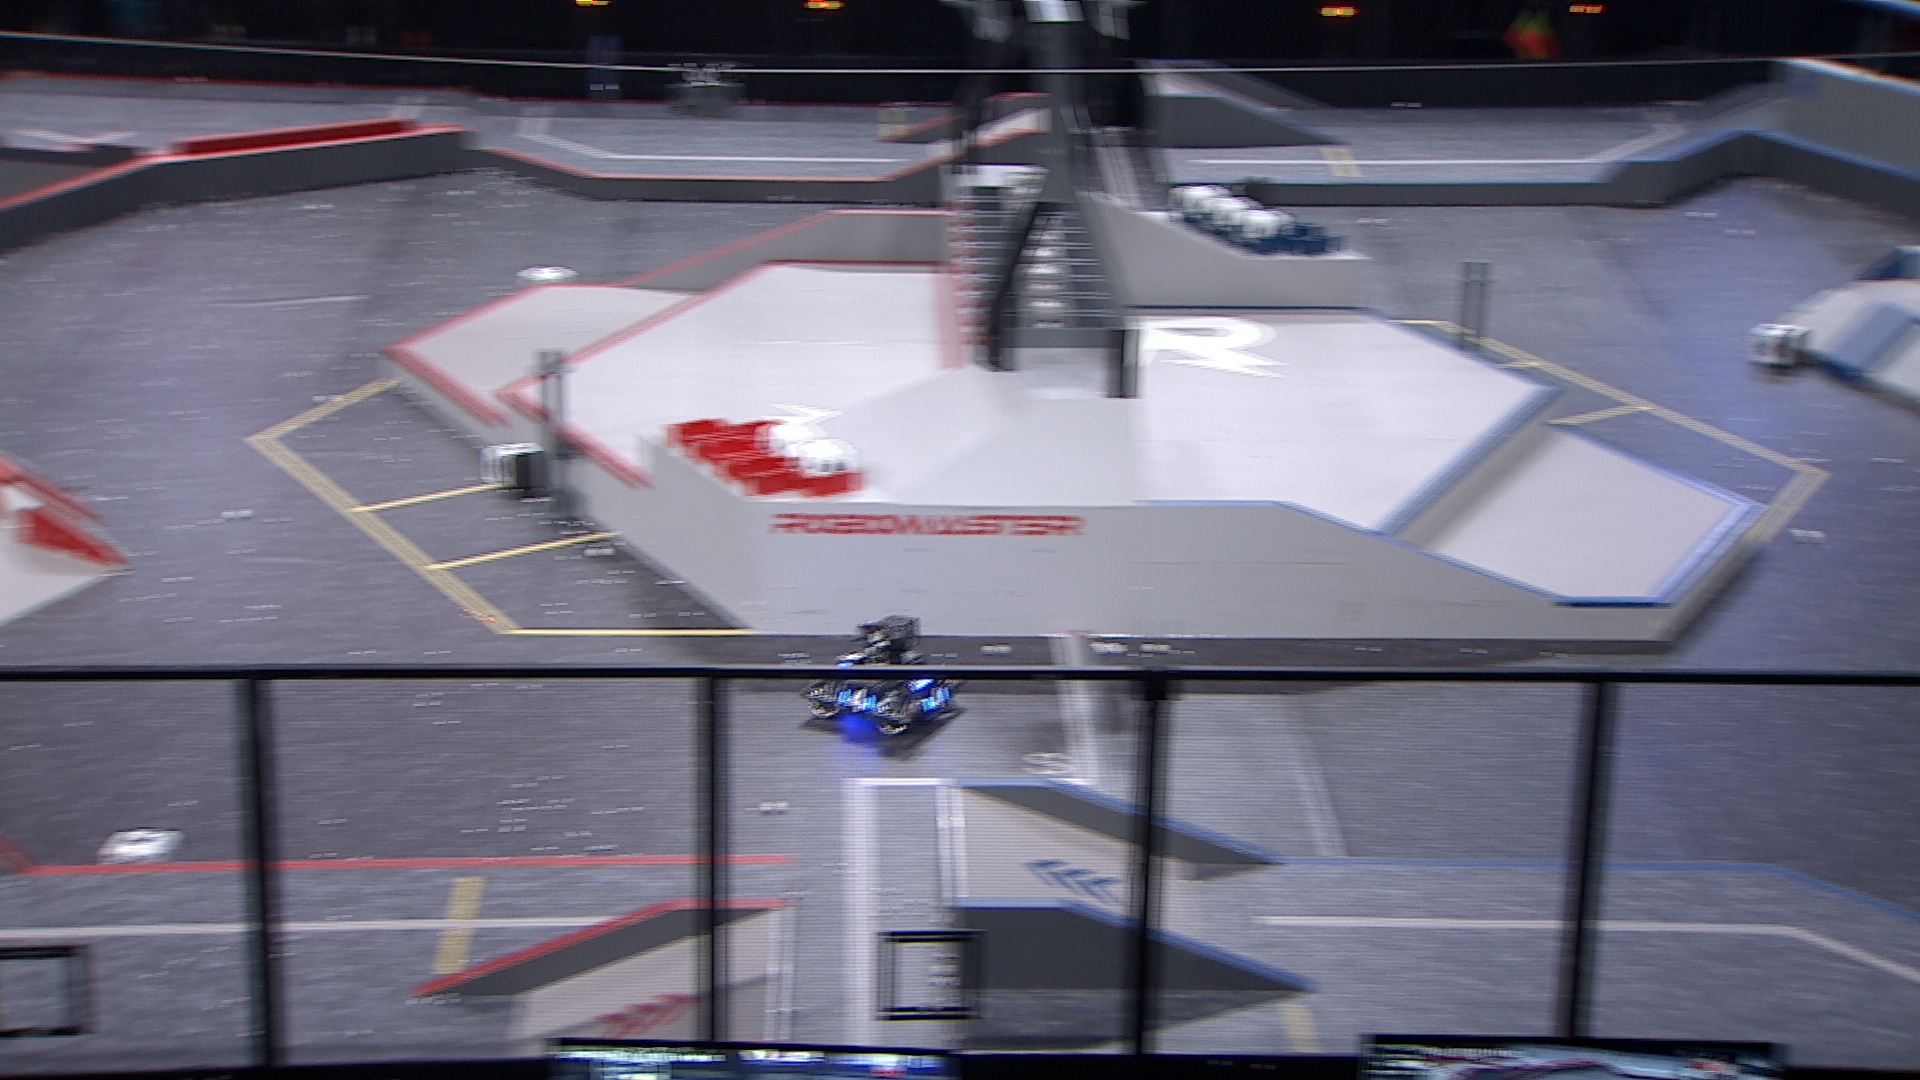armor: (918, 680, 953, 713), (839, 684, 876, 716), (833, 647, 868, 669)
car: (803, 611, 969, 737)
